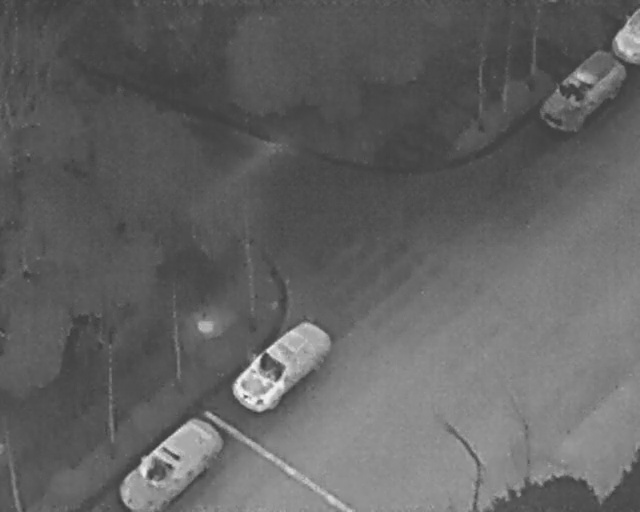Car: (224, 309, 333, 421), (119, 410, 223, 511), (535, 42, 631, 141)
